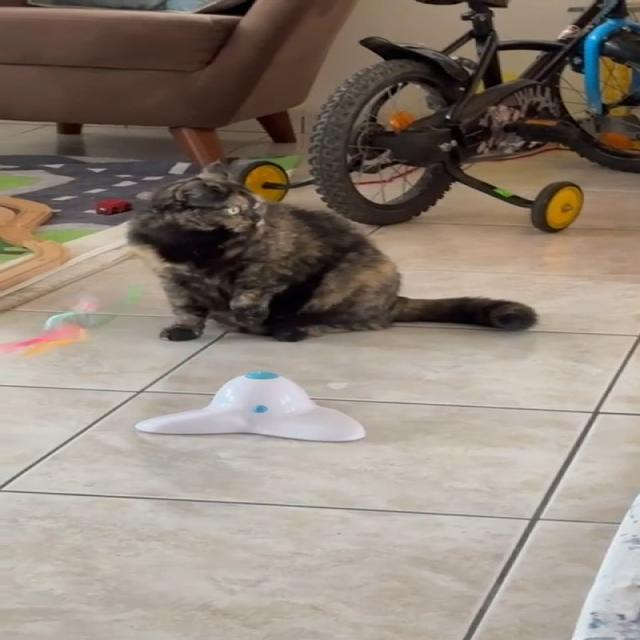authorized: (124, 158, 537, 342)
